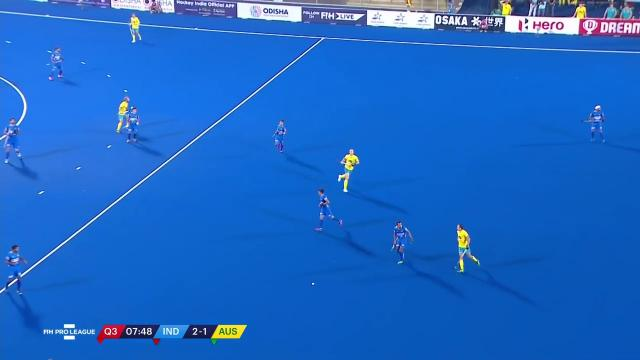ball: (309, 280, 317, 287)
